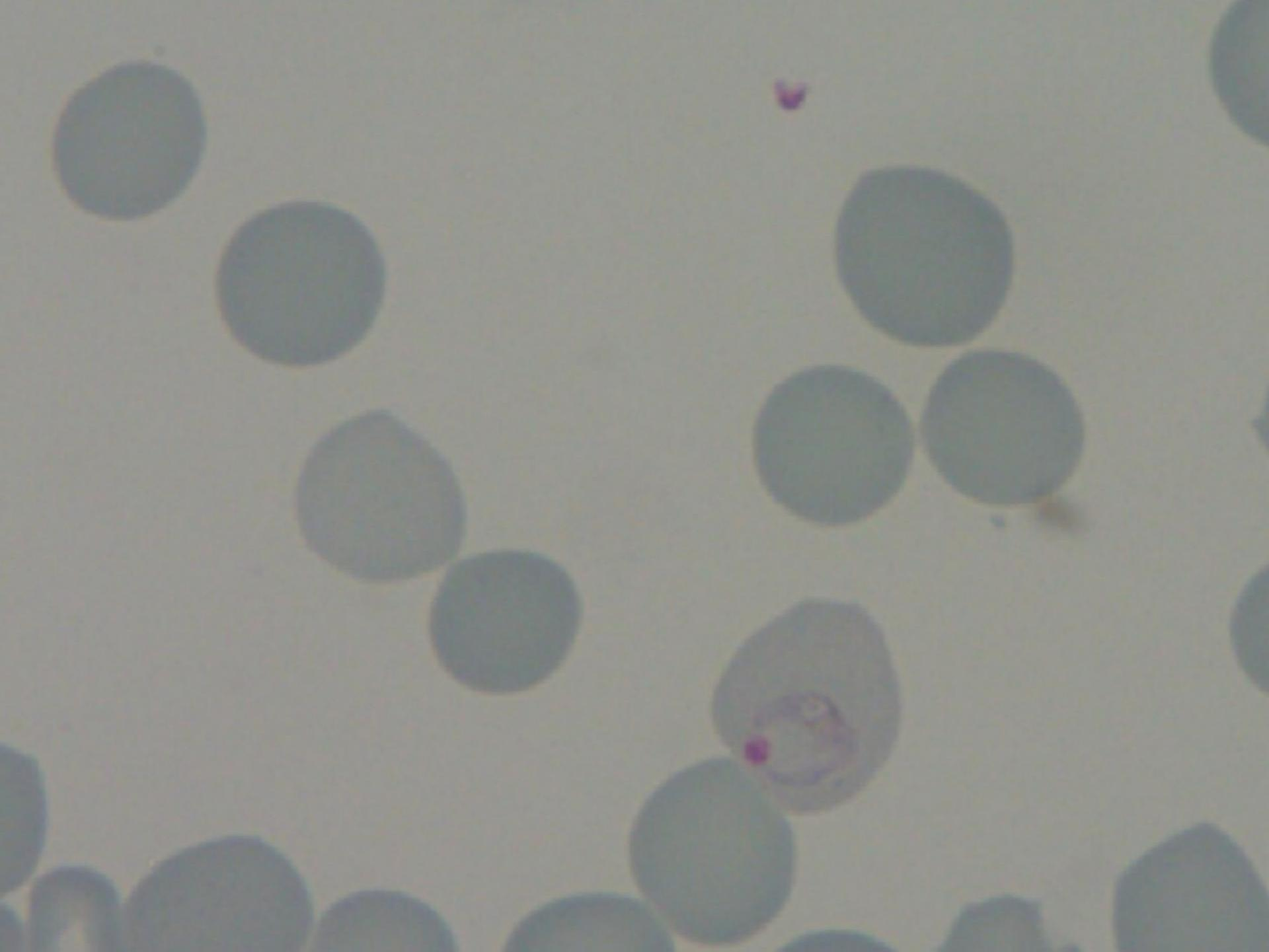Infected: (715, 595, 895, 812)
Uninfected: (831, 168, 1012, 344), (288, 412, 466, 586), (631, 758, 792, 943), (216, 203, 381, 366), (752, 360, 913, 522), (924, 350, 1086, 507), (51, 60, 203, 217), (117, 829, 311, 952), (431, 549, 580, 696), (1114, 820, 1269, 952)
